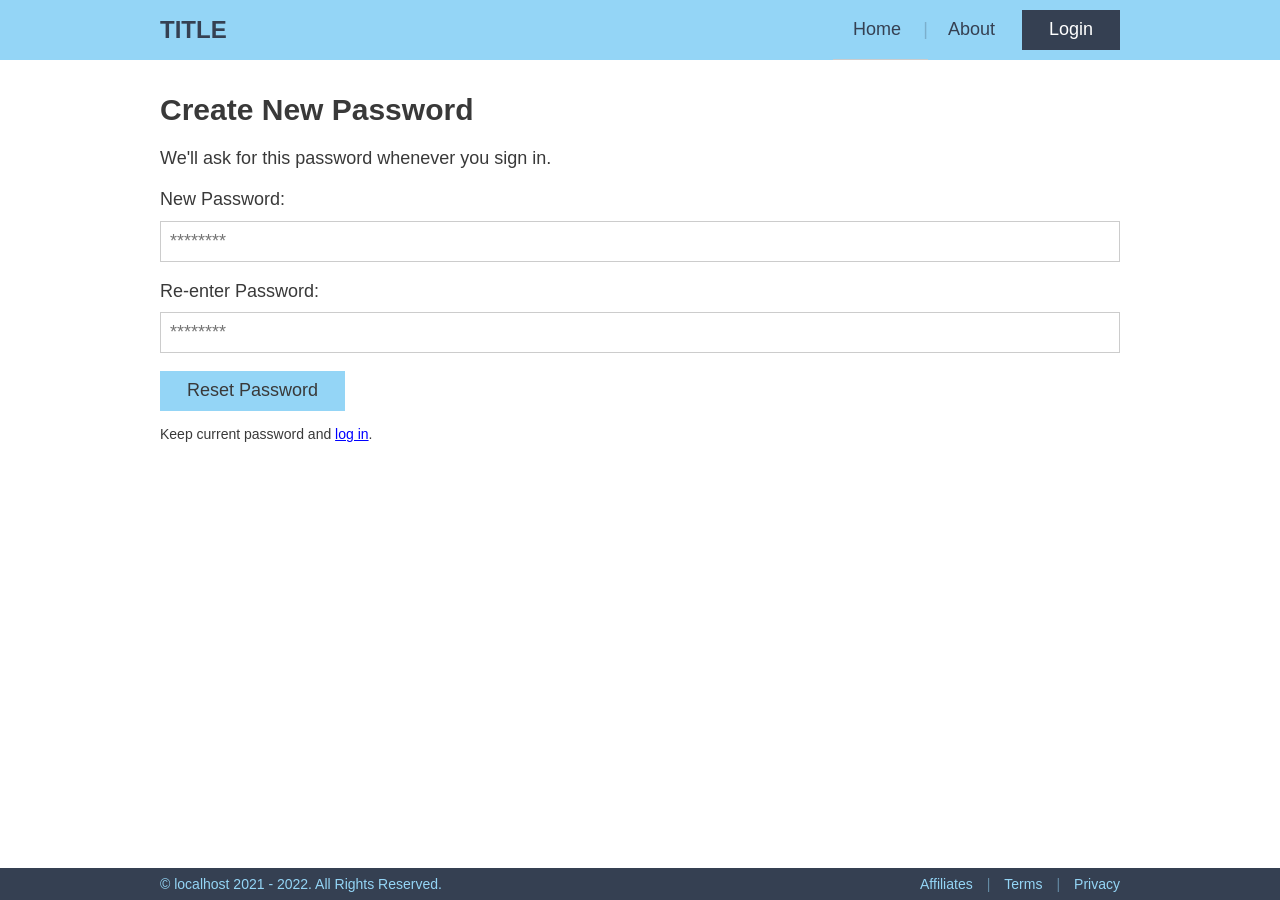
Scenario: reset password tests › should show errors with invalid inputs and disappear when corrected
# empty error
Click the button "Reset Password" at {"x": 253, "y": 391}, box [160, 371, 345, 411]
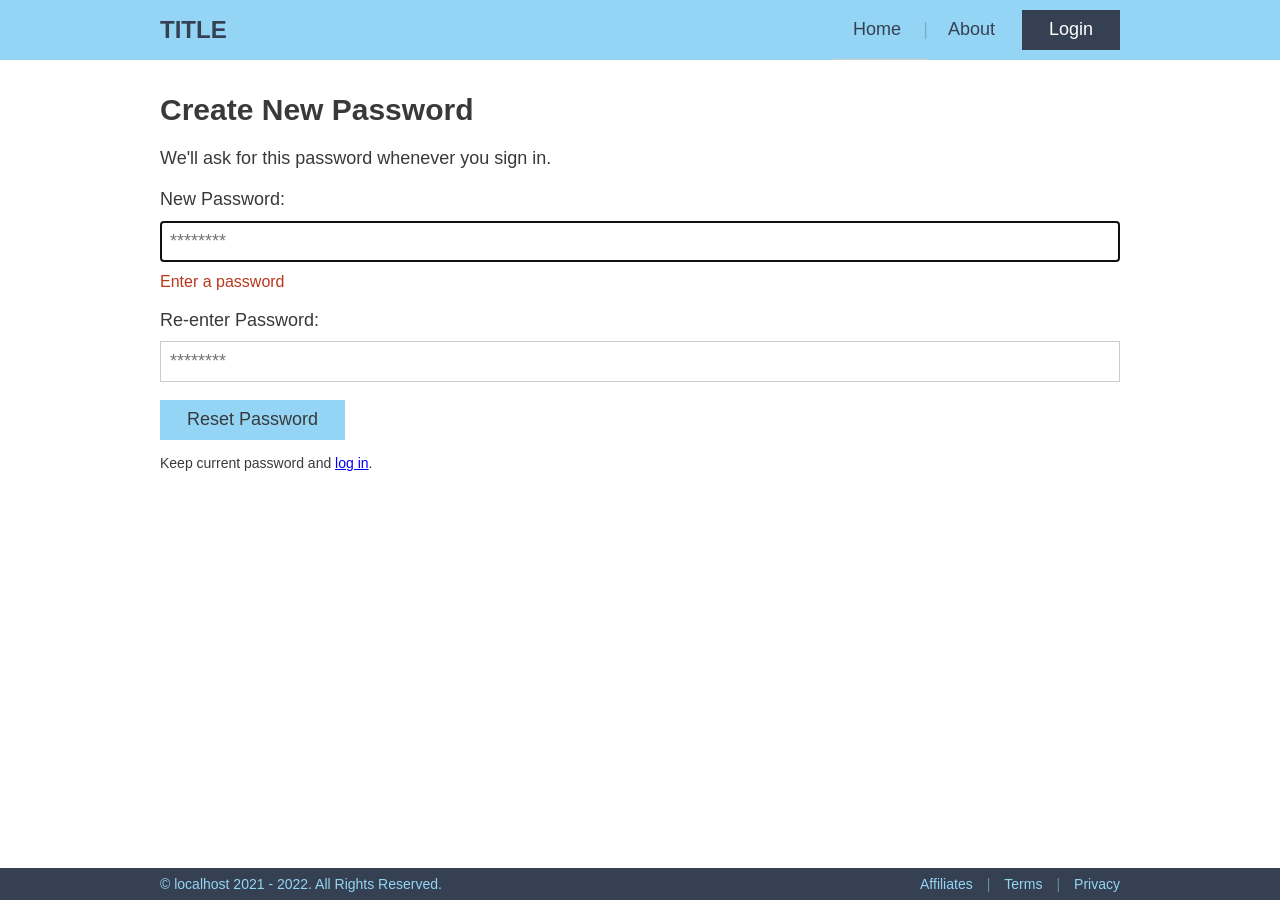
Result: the text "Enter a password" is shown at [160, 273, 284, 290]
# confirm password error
Type "password" into the password field labelled "New Password:" at {"x": 640, "y": 241}, box [160, 221, 1120, 262]
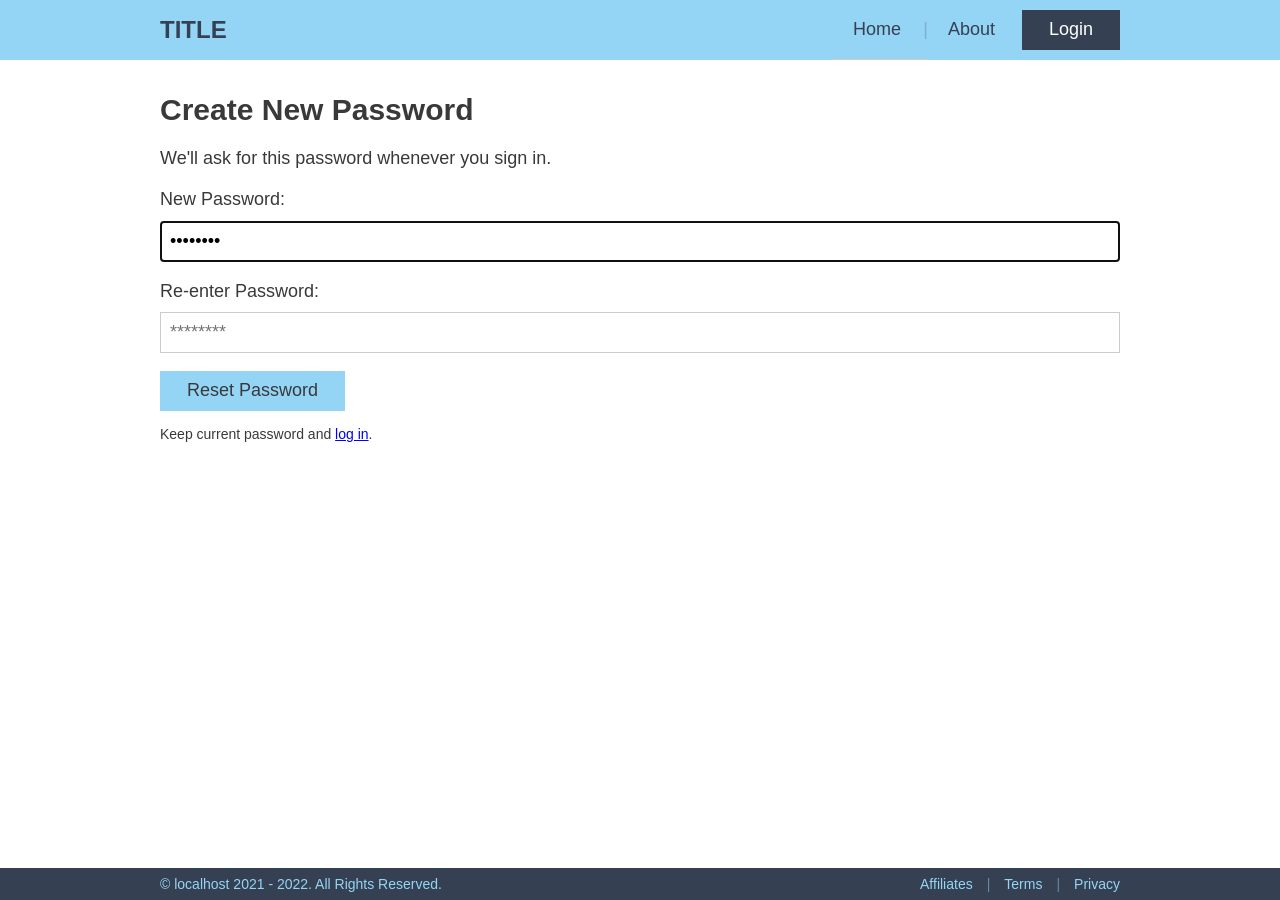
Click the button "Reset Password" at {"x": 253, "y": 391}, box [160, 371, 345, 411]
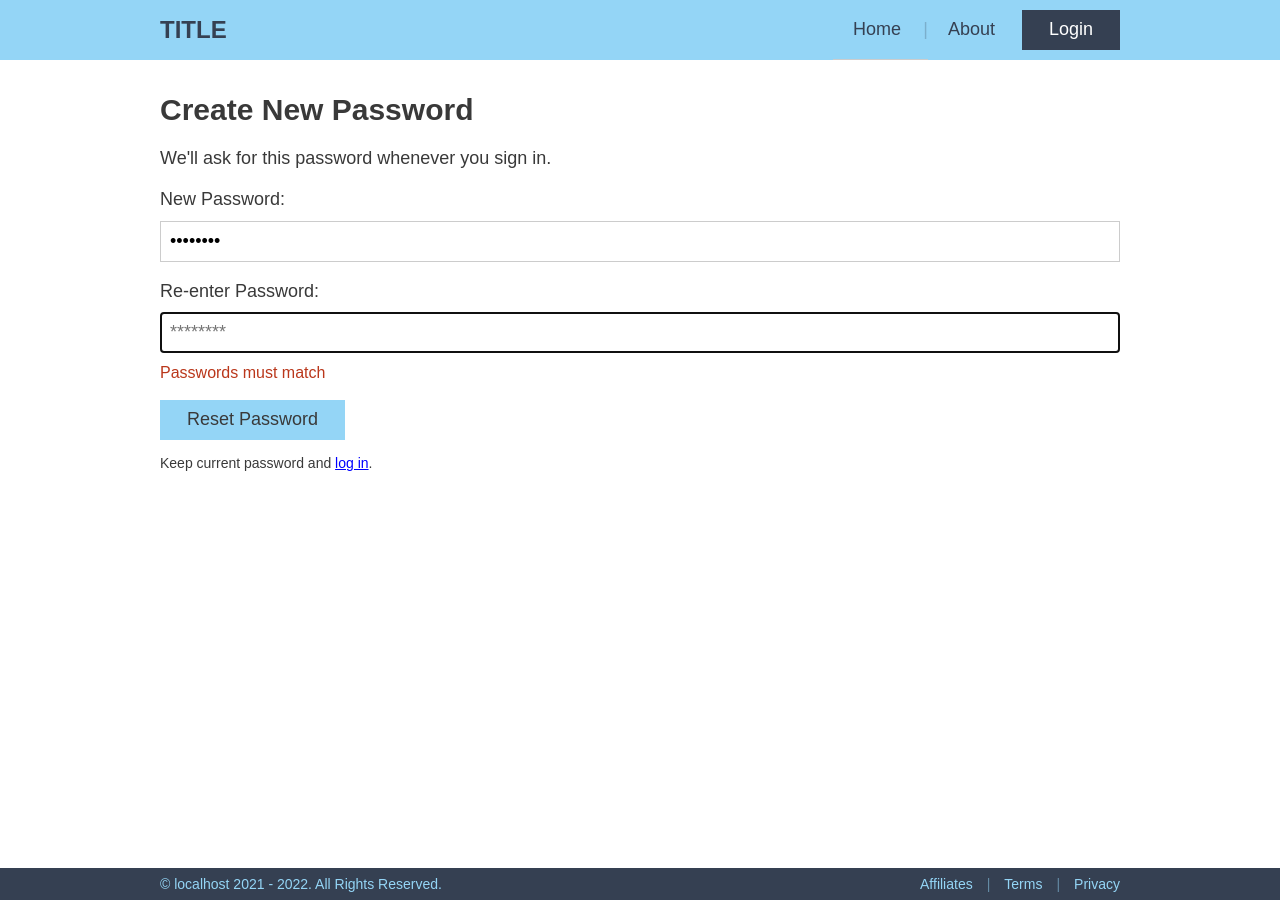
Result: the text "Passwords must match" is shown at [160, 364, 325, 381]
# errors disappear
Type "password" into the password field labelled "Re-enter Password:" at {"x": 640, "y": 333}, box [160, 312, 1120, 353]
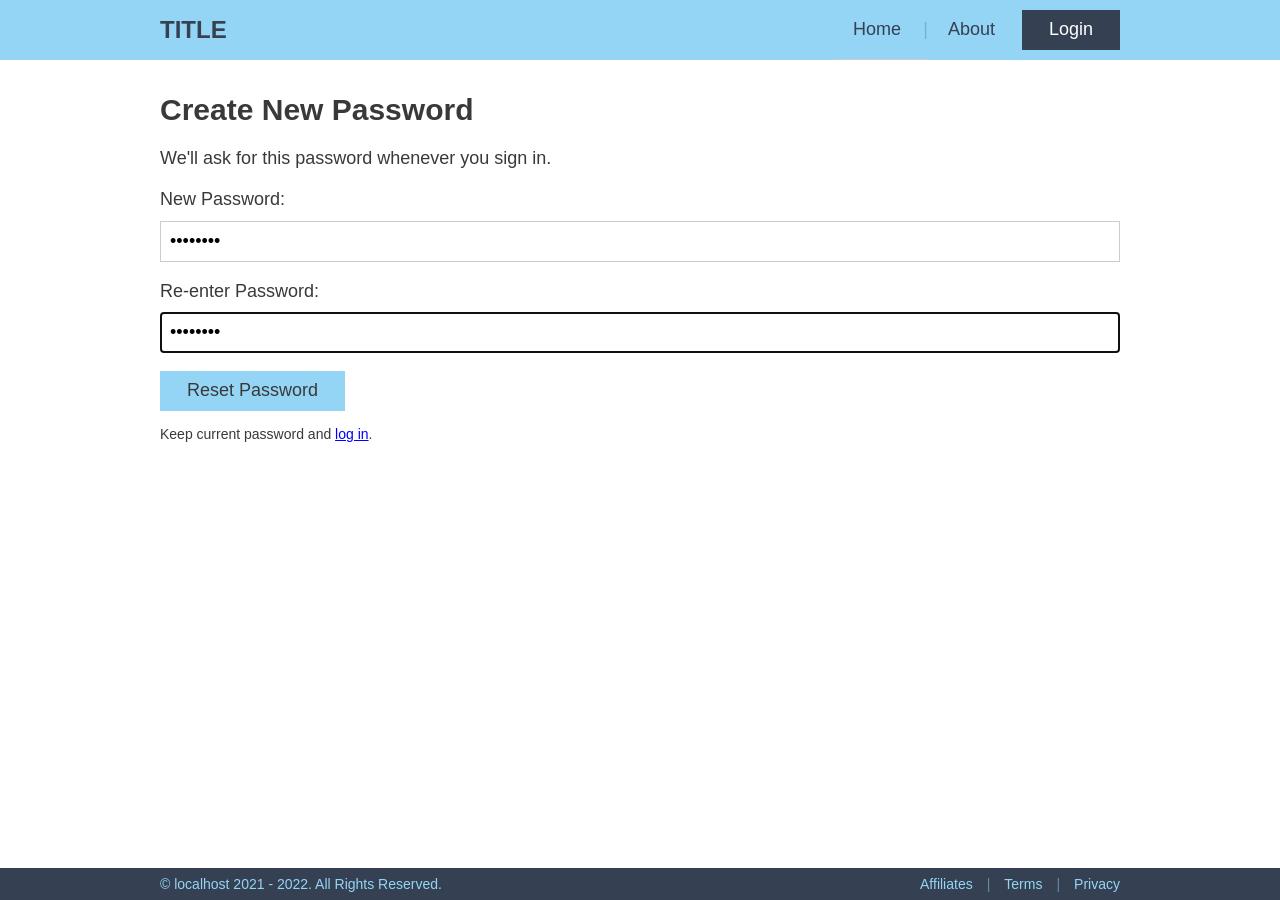
Click the button "Reset Password" at {"x": 253, "y": 391}, box [160, 371, 345, 411]
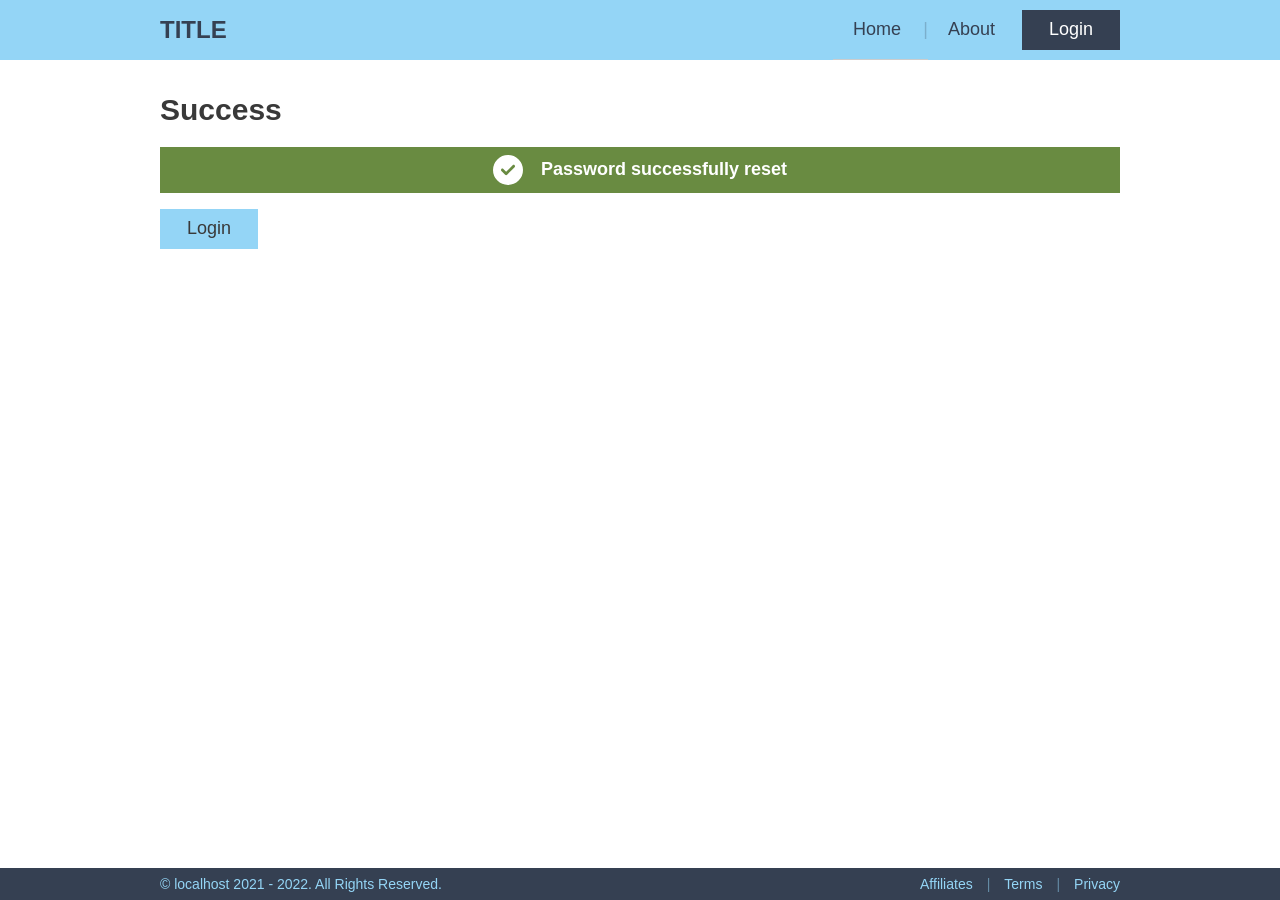
Expected: the text "Passwords must match" is not shown
Result: the text "enter a password" is gone
